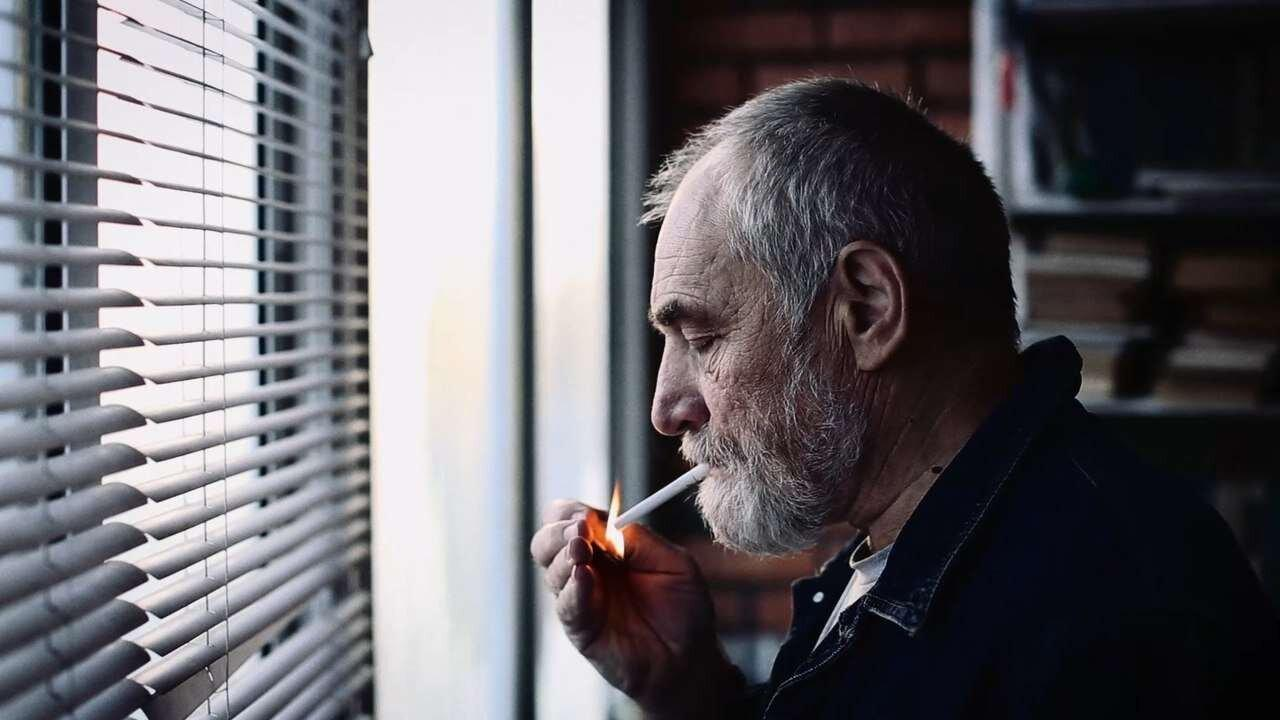cigarette: (612, 463, 716, 530)
